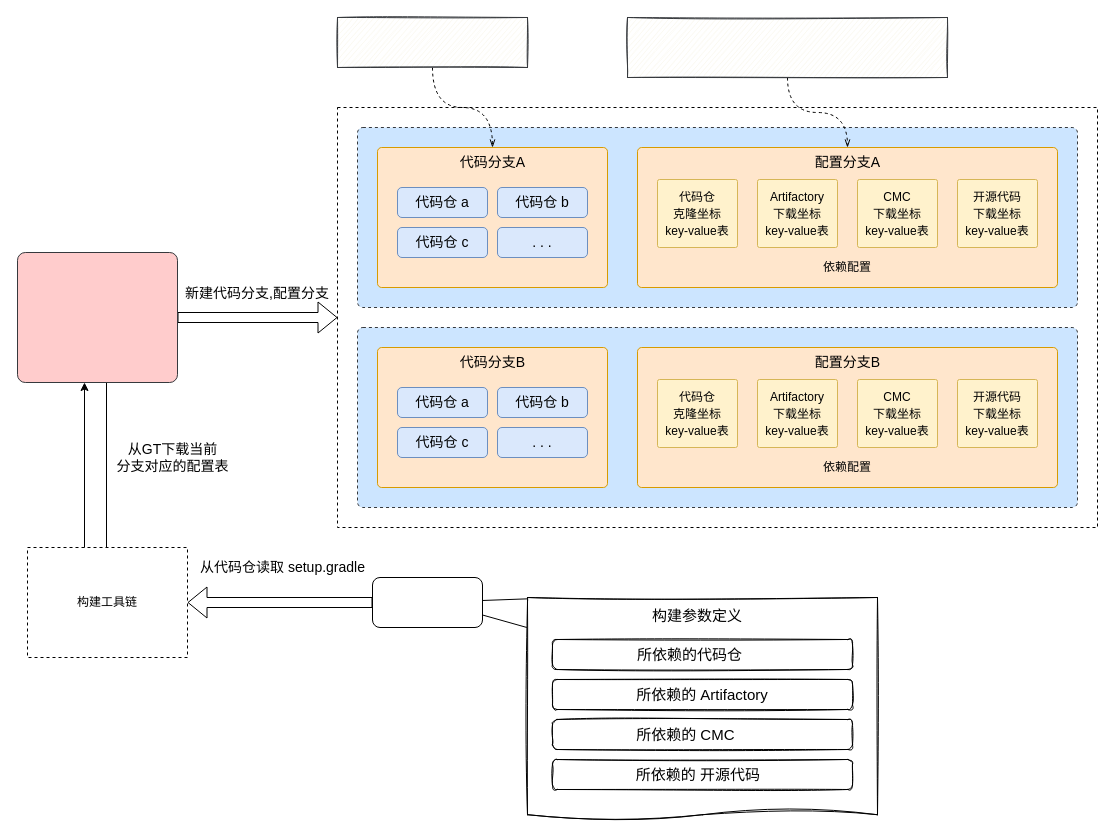
This 1115x837 diagram has some shape labels left out. Each missing label, with the box of its shape:
GT 平台可以一次性对多个代码仓库的分支进行管理: (336, 16, 528, 68)
GT 研发管理平台: (16, 252, 178, 382)
setup.gradle: (372, 576, 482, 628)
统一管理构建时需要使用到的配置，构建时会使用与代码库分支名称同名的配置分支: (626, 16, 948, 78)
